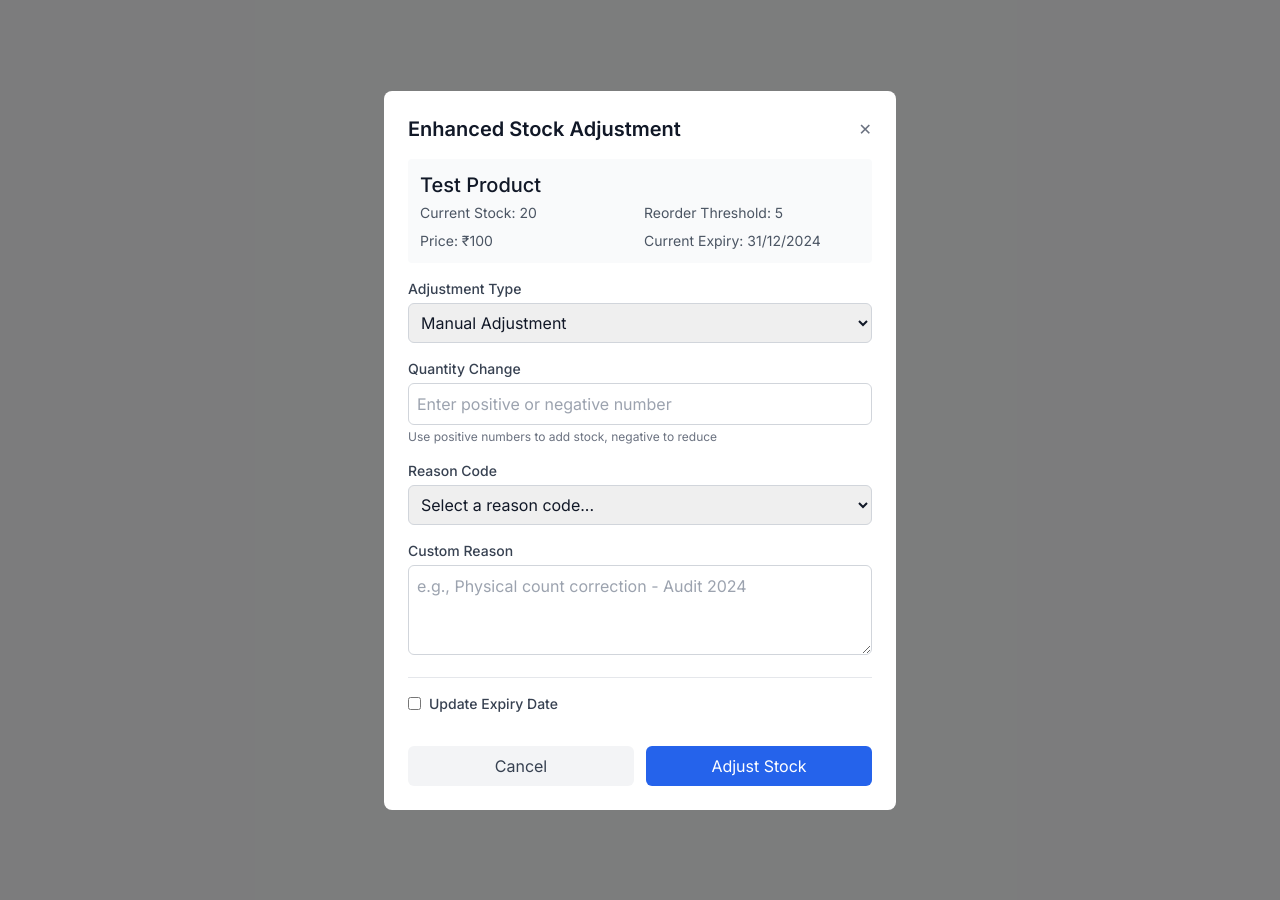
Test case: EnhancedStockAdjustmentModal › should calculate new stock correctly
Type "5" into the number field with placeholder "Enter positive or negative number".
click(640, 404); type("5")  # box [408, 382, 872, 424]
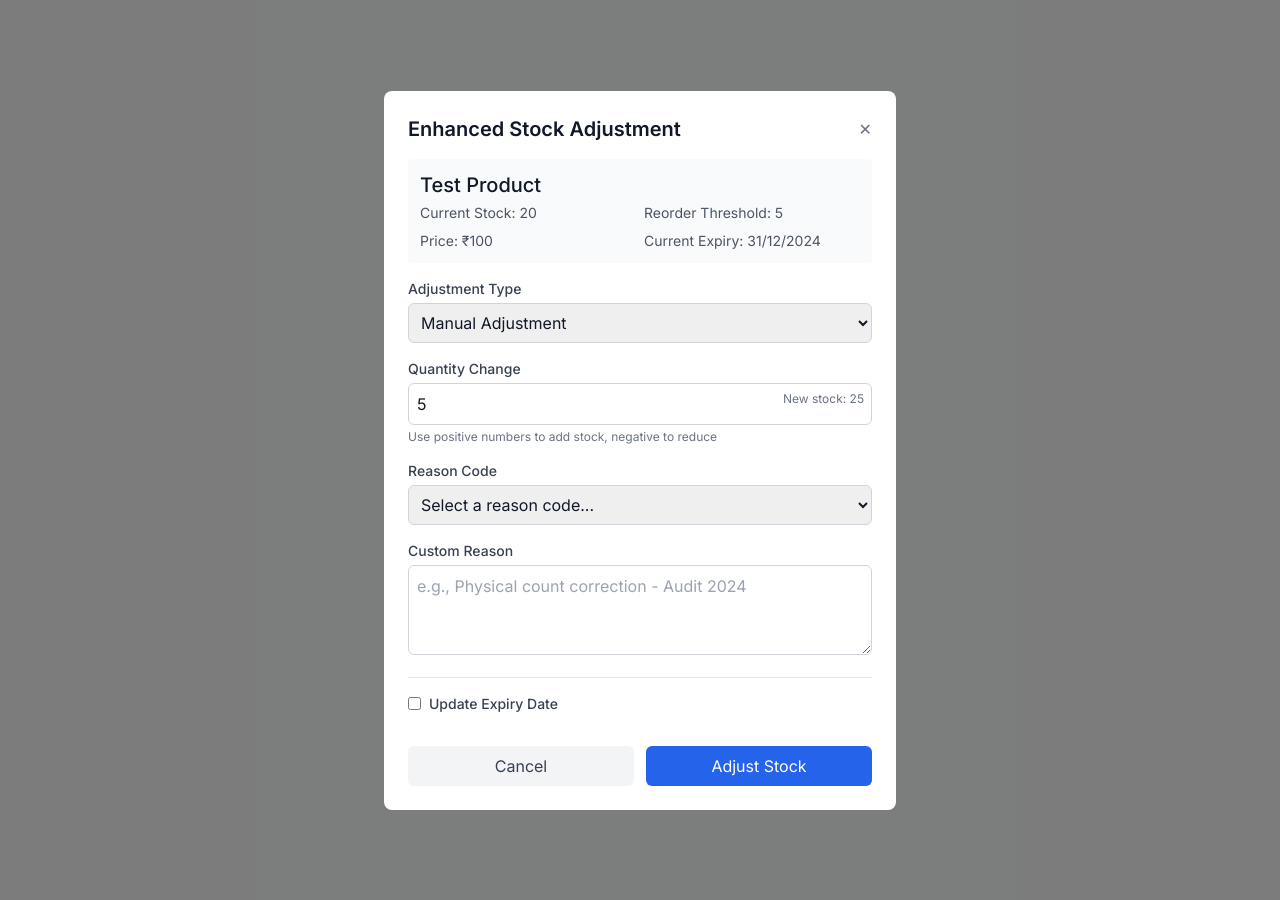
Now the text "New stock: 25" is shown, box [783, 390, 864, 406]
Replace the text in the number field with placeholder "Enter positive or negative number" with "-10" at [640, 404], box [408, 382, 872, 424]
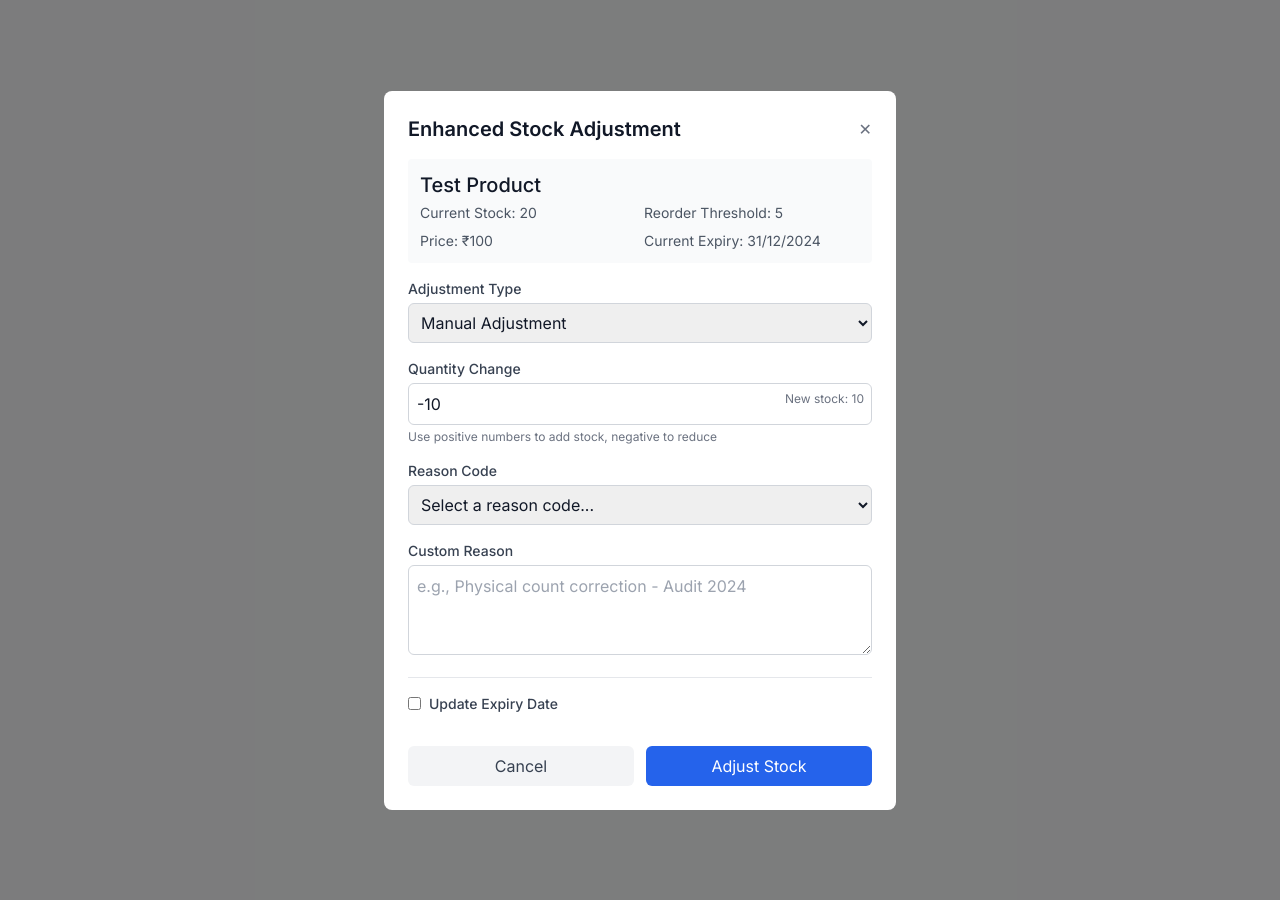
Now the text "New stock: 10" is shown, box [785, 390, 864, 406]
